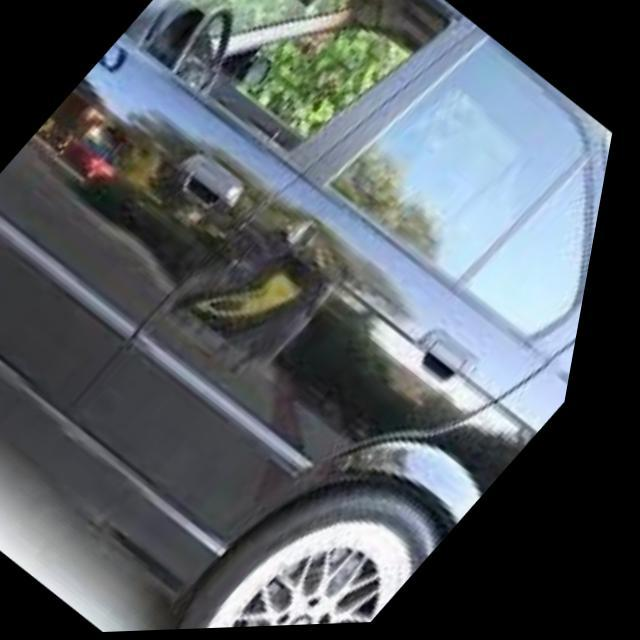dent: (171, 218, 359, 361)
